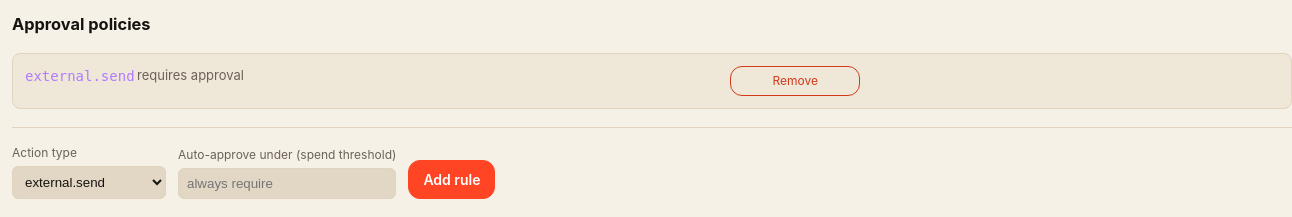
Test: PolicyManager › lets a human remove a rule
Check: the text "requires approval" is shown, box [137,67,244,83]
Click the button with aria-label "Remove policy for external.send" at (795, 81), box [730,66,860,96]
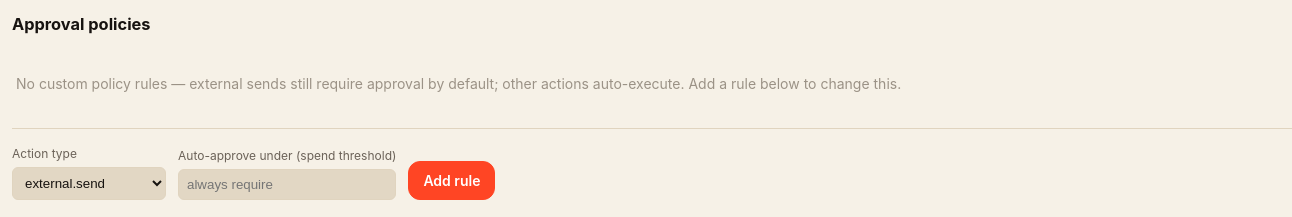
Check: the text "requires approval" is gone
